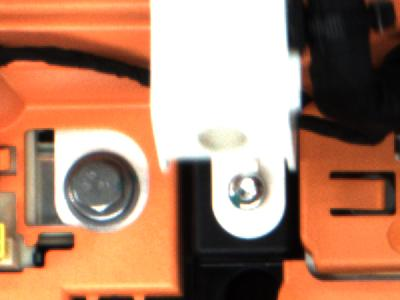nut_b: (54, 146, 143, 228)
